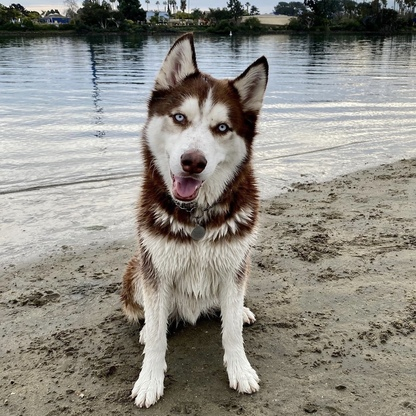husky: (114, 33, 272, 411)
